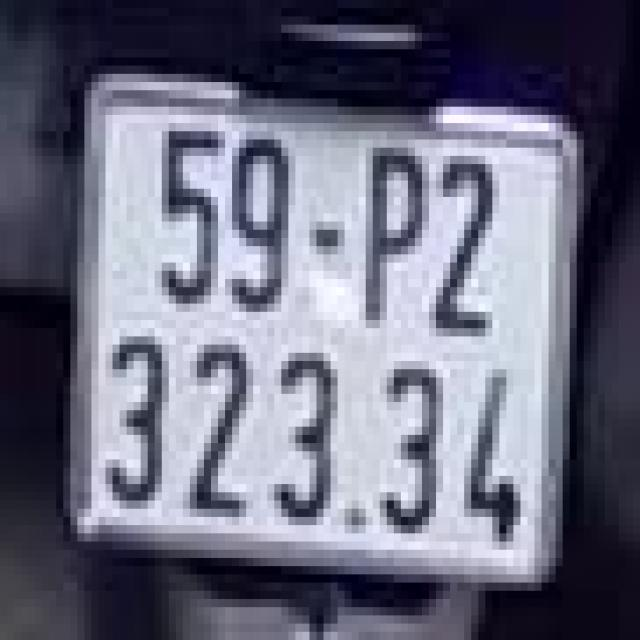2: (179, 332, 257, 521), (429, 148, 499, 353)
3: (91, 332, 176, 521), (271, 332, 341, 538), (380, 349, 450, 537)
4: (461, 361, 524, 558)
5: (155, 119, 225, 316)
9: (225, 127, 295, 324)
P: (348, 140, 426, 336)
